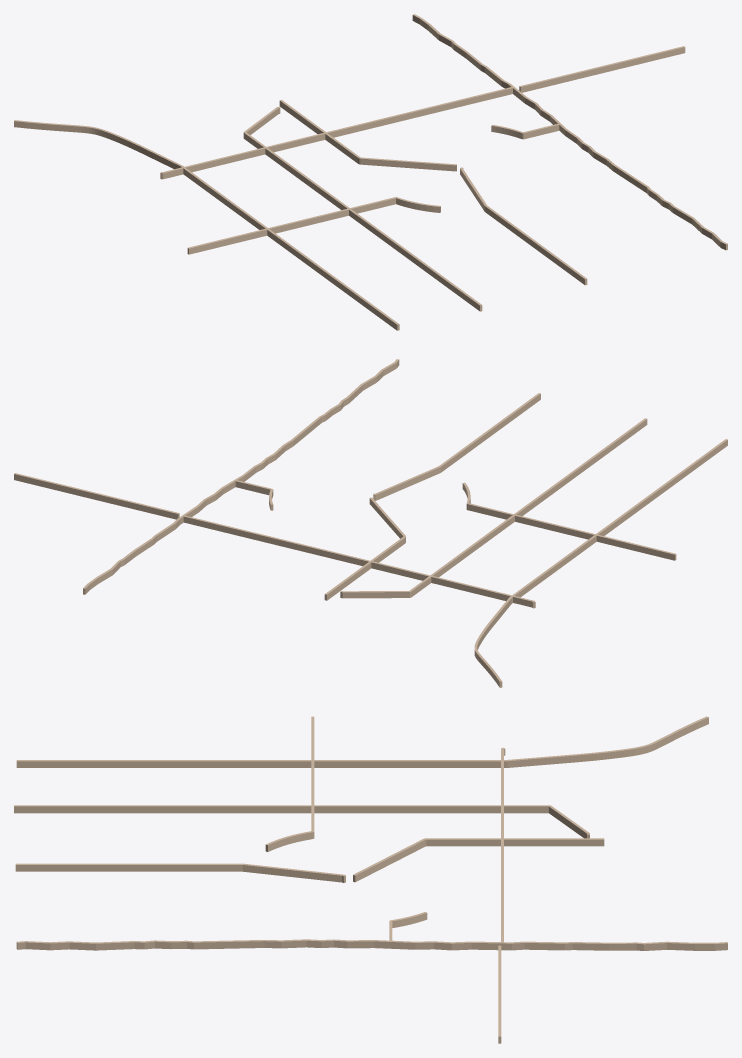
Rendered from minor_roads.glb.
The picture shows the model from 3 angles, top to bottom: view 1: azimuth 30°, elevation 25°; view 2: azimuth 150°, elevation 25°; view 3: azimuth 270°, elevation 25°; orthographic projection. The views are drawn at different scales.
Visible parts, largest first — view 1: world; view 2: world; view 3: world.
Boxes of the visible parts, x1,y1,x2,y2 form: world: (14, 14, 727, 330); world: (14, 359, 727, 687); world: (14, 716, 727, 1043).
Bounding box in the file's own units: 100 × 1 × 94.56.
